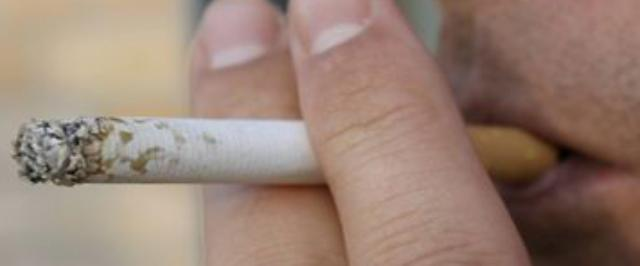Cigarette: (11, 115, 558, 188)
